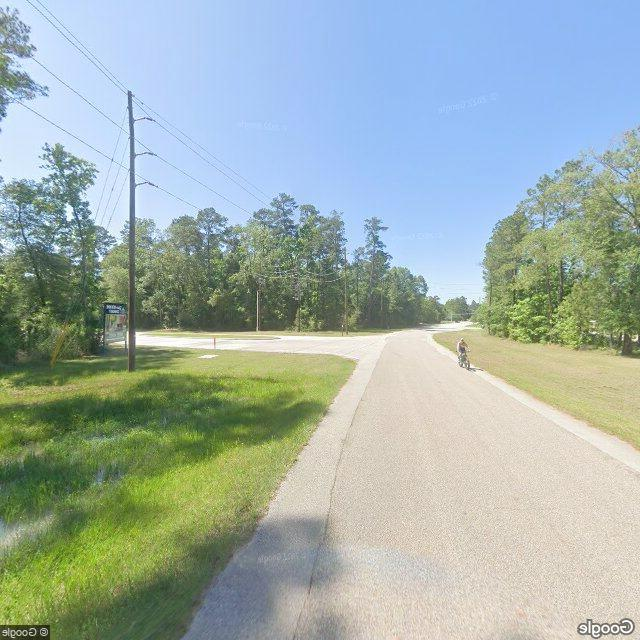crack: (464, 491, 581, 530)
